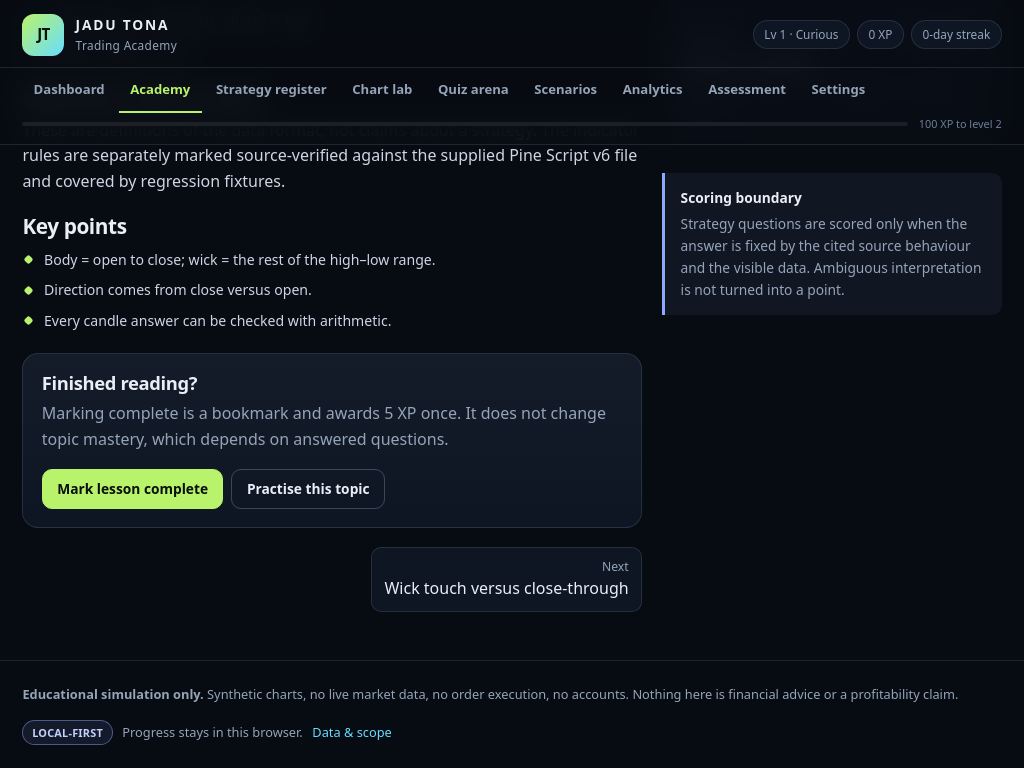
application shell and routes › renders a lesson and marks it complete once
The width and height of the screenshot is (1024, 768).
(page scrolled)
Click the button "Mark lesson complete": click(133, 489) x1=42 y1=469 x2=224 y2=509
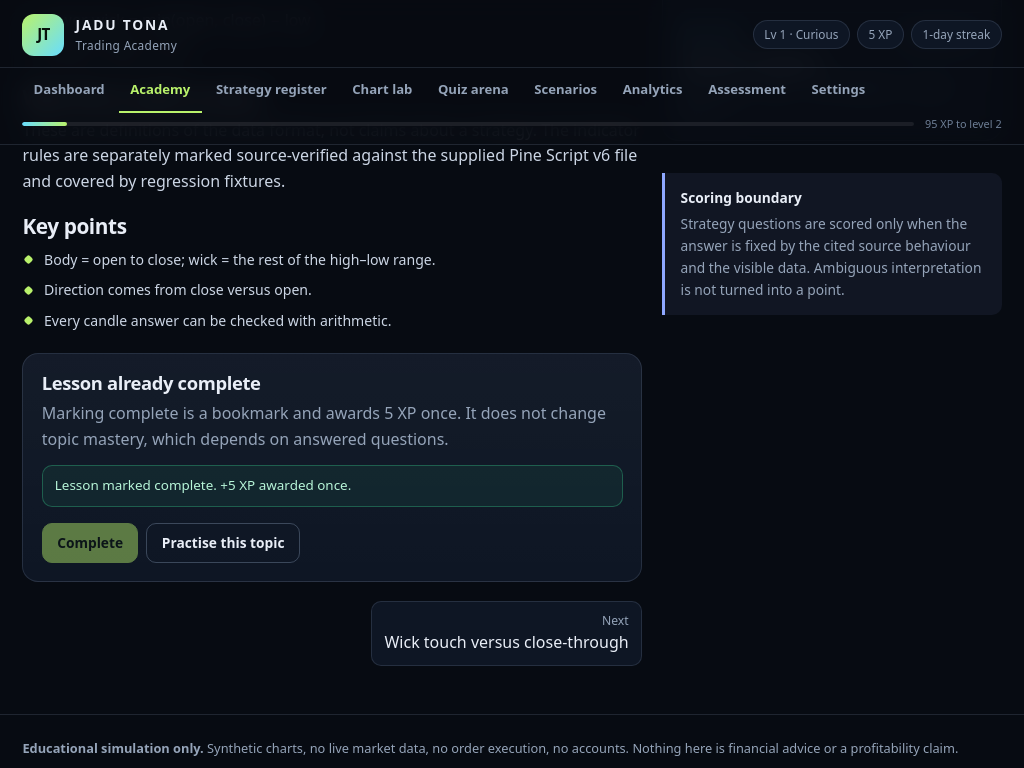
Check: the message shows "5 XP", box x1=55 y1=476 x2=351 y2=494
Check: the button "Complete" is disabled, box x1=42 y1=523 x2=138 y2=563
